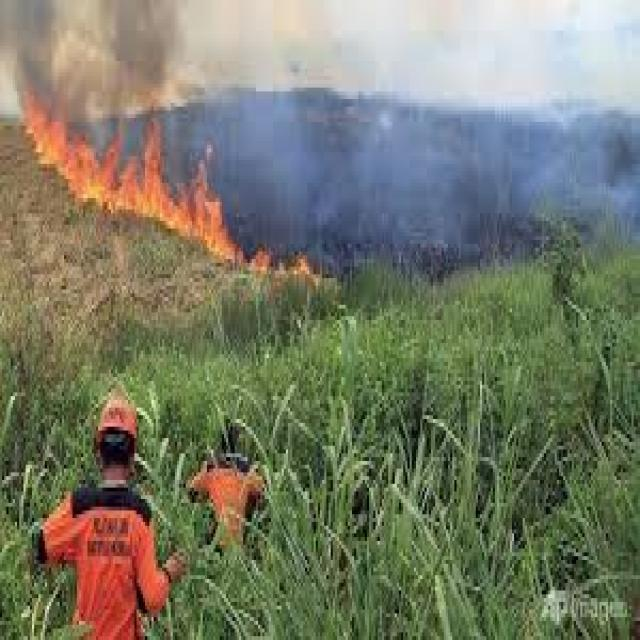Fire: (59, 126, 237, 264), (14, 66, 92, 192), (272, 243, 314, 276), (253, 250, 272, 276)
Smoke: (257, 80, 638, 231), (96, 0, 200, 95)
